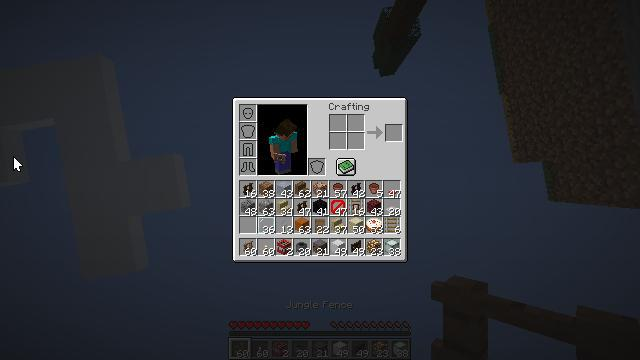cursor: (156, 13, 172, 23)
